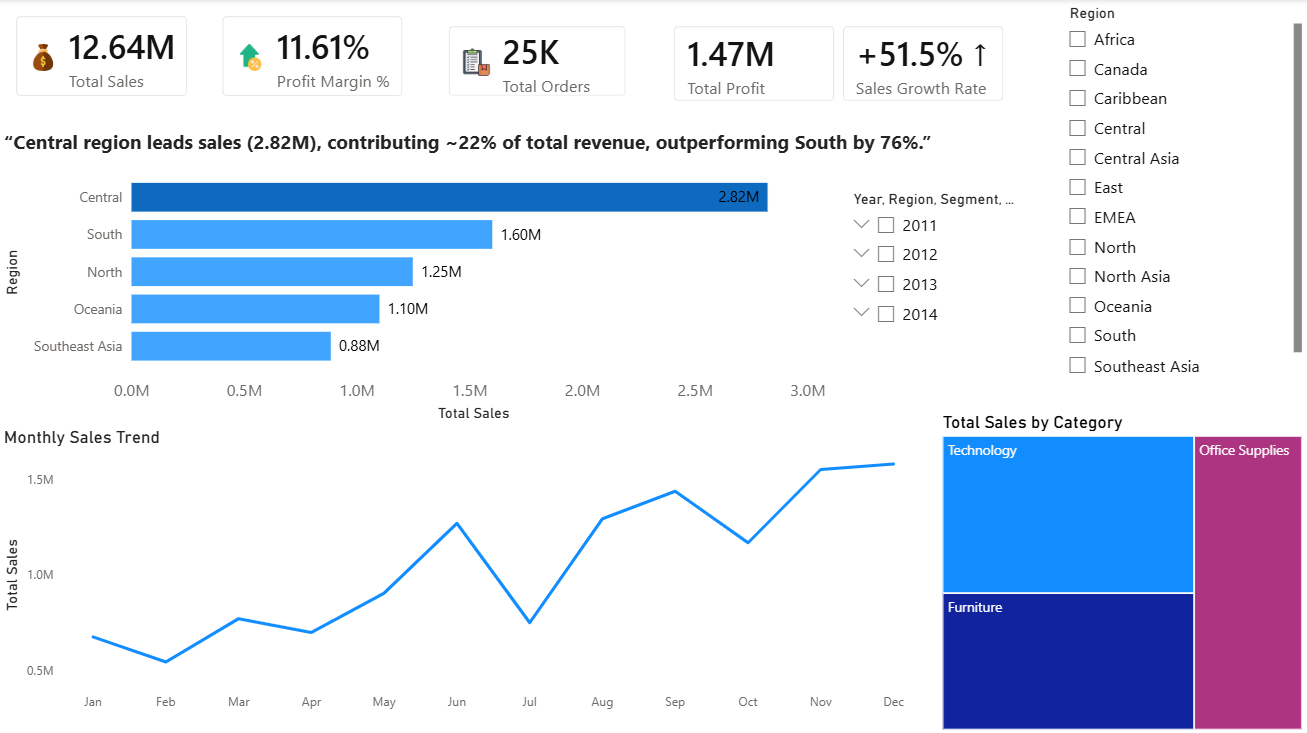

Layout of this report page (visuals, bound fields, positions):
{"tool":"powerbi","page":{"name":"Sales_Overview","canvas":[1280,720],"ordinal":0},"visuals":[{"type":"cardVisual","fields":{"Data":["Orders.Total Sales"]},"box":[0,0,201.2,112.5],"z":0},{"type":"cardVisual","fields":{"Data":["Date_Table.Profit Margin %"]},"box":[201.2,0,210,112.5],"z":1000},{"type":"cardVisual","fields":{"Data":["Date_Table.Total Orders"]},"box":[422.5,10,207.5,102.5],"z":2000},{"type":"cardVisual","fields":{"Data":["Date_Table.Total Profit","Date_Table.Sales Growth Fancy"]},"box":[643.8,10,356.2,107.5],"z":3000},{"type":"lineChart","title":"Monthly Sales Trend","fields":{"Category":["Orders.Month Name"],"Y":["Orders.Total Sales"]},"box":[0,418.8,908.8,301.2],"z":4000},{"type":"clusteredBarChart","fields":{"Category":["Orders.Region"],"Y":["Orders.Total Sales"]},"box":[0,133.8,822.5,285],"z":5000},{"type":"treemap","fields":{"Group":["Orders.Category"],"Values":["Orders.Total Sales"]},"box":[918.8,403.8,361.2,316.2],"z":6000},{"type":"slicer","fields":{"Values":["Date_Table.Year","Orders.Region","Orders.Segment","Orders.Category"]},"box":[822.5,182.5,192.5,166.2],"z":7000},{"type":"textbox","box":[0,122.5,918.8,43.8],"z":8000},{"type":"slicer","fields":{"Values":["Orders.Region"]},"box":[1035,0,245,377.5],"z":9000}]}

Visuals, with their boxes in screenshot pixels (x1, y1, x2, y2), scaled from the page's 1280x720 canvas onto the 1307x733 screenshot:
cardVisual - Orders.Total Sales: {"x1": 0, "y1": 0, "x2": 205, "y2": 115}
cardVisual - Date_Table.Profit Margin %: {"x1": 205, "y1": 0, "x2": 420, "y2": 115}
cardVisual - Date_Table.Total Orders: {"x1": 431, "y1": 10, "x2": 643, "y2": 115}
cardVisual - Date_Table.Total Profit x Date_Table.Sales Growth Fancy: {"x1": 657, "y1": 10, "x2": 1021, "y2": 120}
"Monthly Sales Trend" lineChart: {"x1": 0, "y1": 426, "x2": 928, "y2": 732}
clusteredBarChart - Orders.Region x Orders.Total Sales: {"x1": 0, "y1": 136, "x2": 840, "y2": 426}
treemap - Orders.Category x Orders.Total Sales: {"x1": 938, "y1": 411, "x2": 1306, "y2": 732}
slicer - Date_Table.Year x Orders.Region: {"x1": 840, "y1": 186, "x2": 1036, "y2": 355}
textbox: {"x1": 0, "y1": 125, "x2": 938, "y2": 169}
slicer - Orders.Region: {"x1": 1057, "y1": 0, "x2": 1306, "y2": 384}
